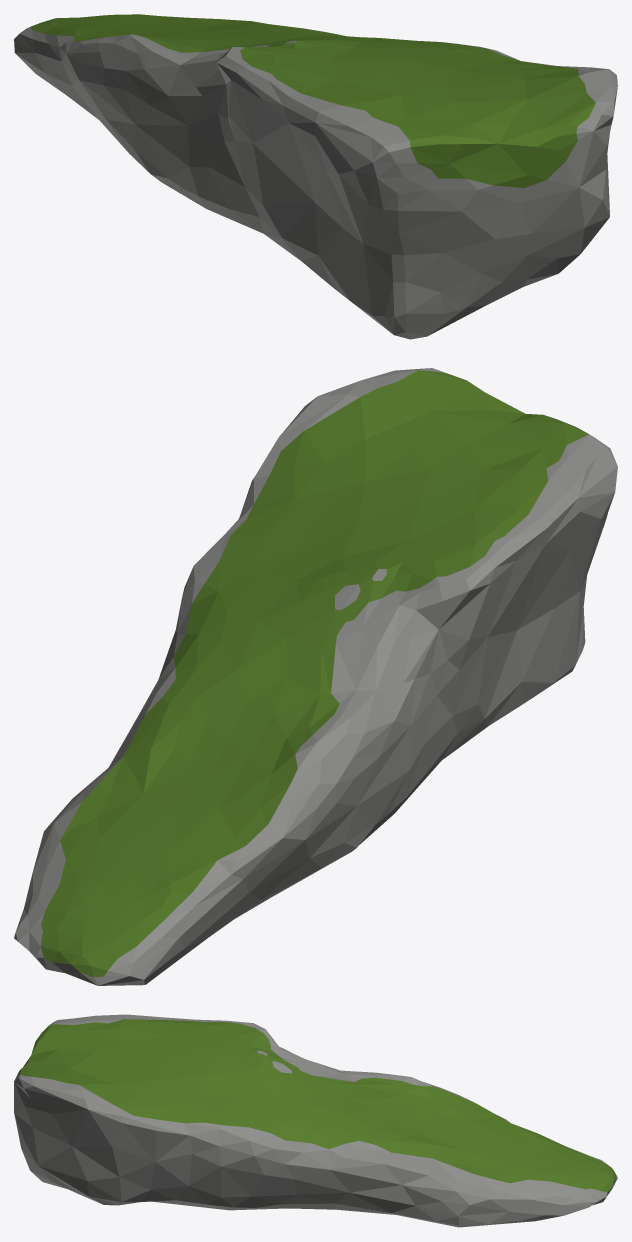
Rendered from Cavern_FloorGrass_Narrow_Ramp_Lrg-02.fbx.
The picture shows the model from 3 angles, top to bottom: view 1: azimuth 30°, elevation 25°; view 2: azimuth 150°, elevation 25°; view 3: azimuth 270°, elevation 25°; orthographic projection. The views are drawn at different scales.
Parts seen in each view (by area): view 1: Cavern_FloorGrass_Narrow_Ramp_Lrg-02; view 2: Cavern_FloorGrass_Narrow_Ramp_Lrg-02; view 3: Cavern_FloorGrass_Narrow_Ramp_Lrg-02.
Part boxes in pixels (x1,y1,x2,y2): Cavern_FloorGrass_Narrow_Ramp_Lrg-02: (14, 14, 617, 339); Cavern_FloorGrass_Narrow_Ramp_Lrg-02: (14, 368, 617, 985); Cavern_FloorGrass_Narrow_Ramp_Lrg-02: (14, 1014, 617, 1227).
Size of the model in its own units: 747 by 603 by 2050.
Materials: 1 (1 with a texture image).
